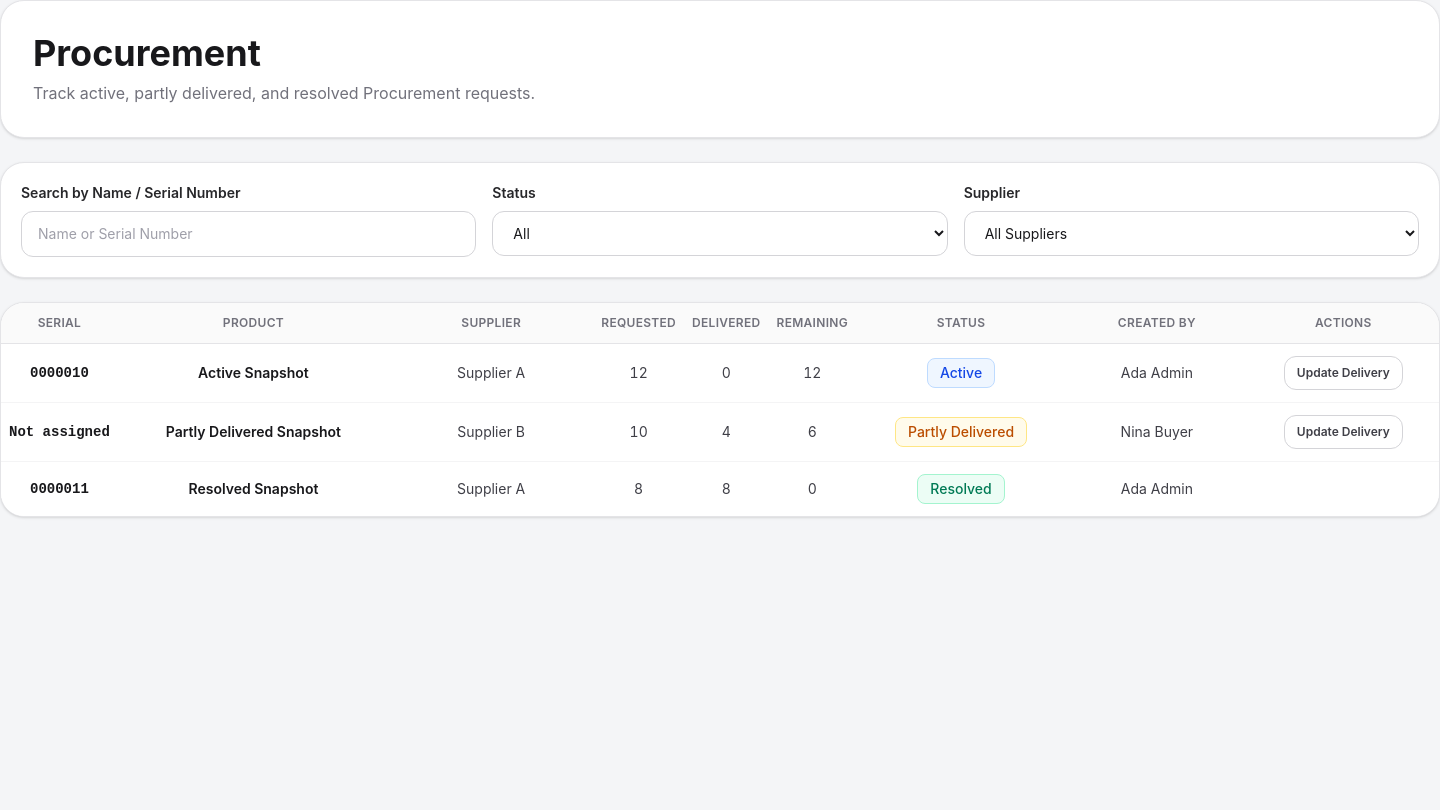
it: ProcurementPage › opens the selected request dialog without affecting Add Request
The width and height of the screenshot is (1440, 810).
Click the button "Update Delivery" in the row of "0000010".
click(1343, 373)  # box 1284,356 -> 1403,390
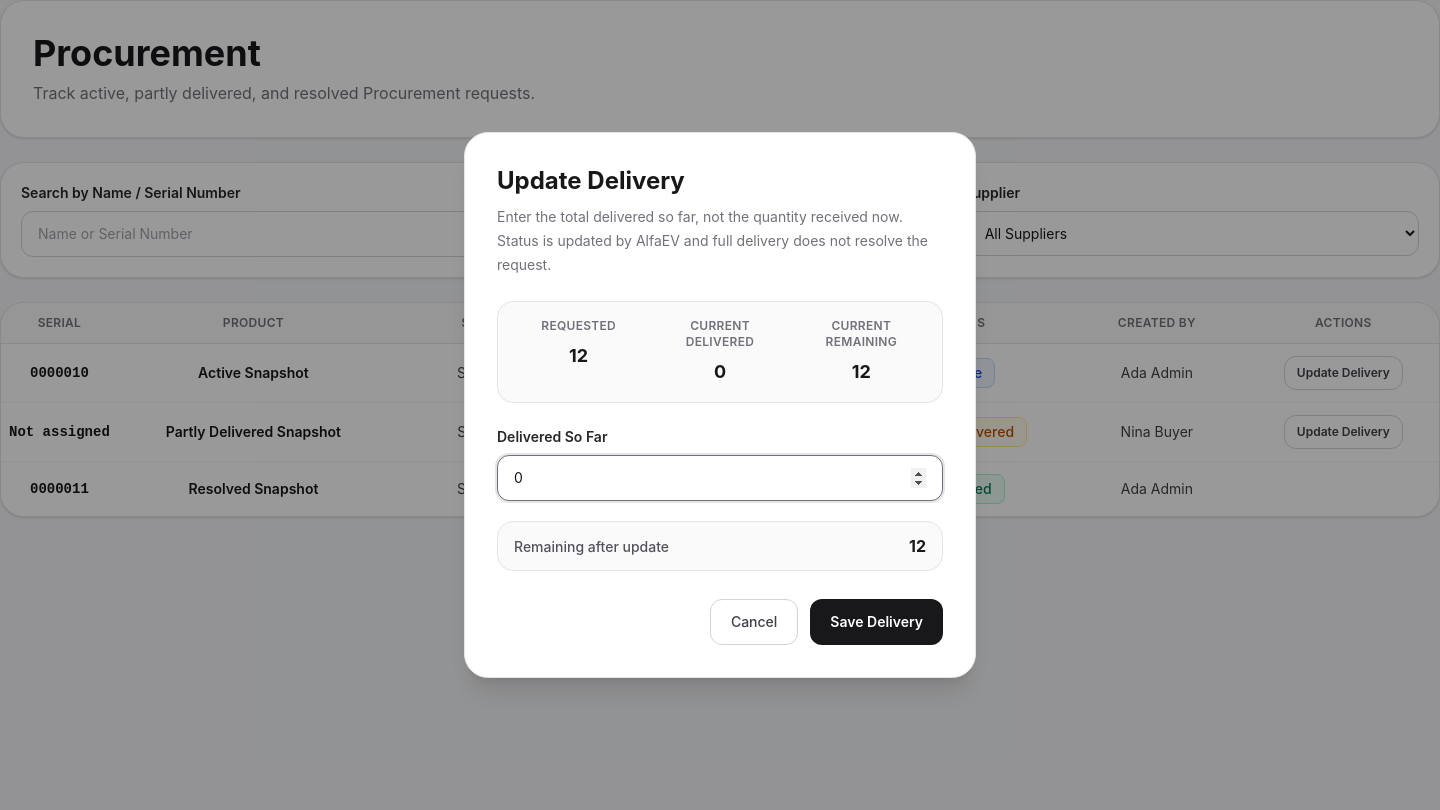
Expected: the dialog "Update Delivery" is shown, 464,132 -> 976,678
Expected: the number field labelled "Delivered So Far" holds "0", 497,455 -> 943,501
